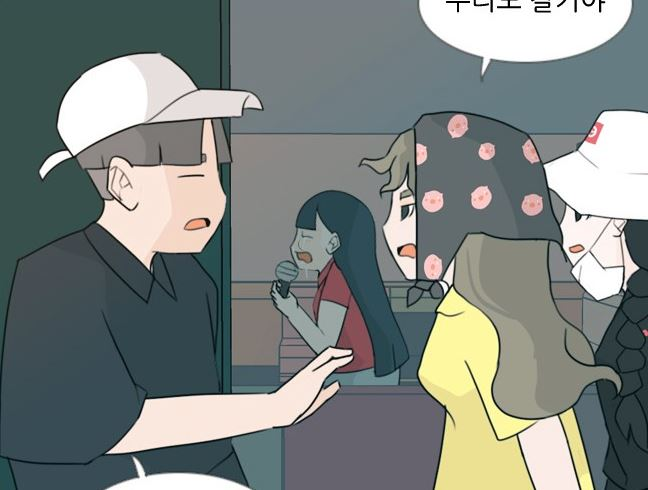hat: (55, 48, 266, 153)
